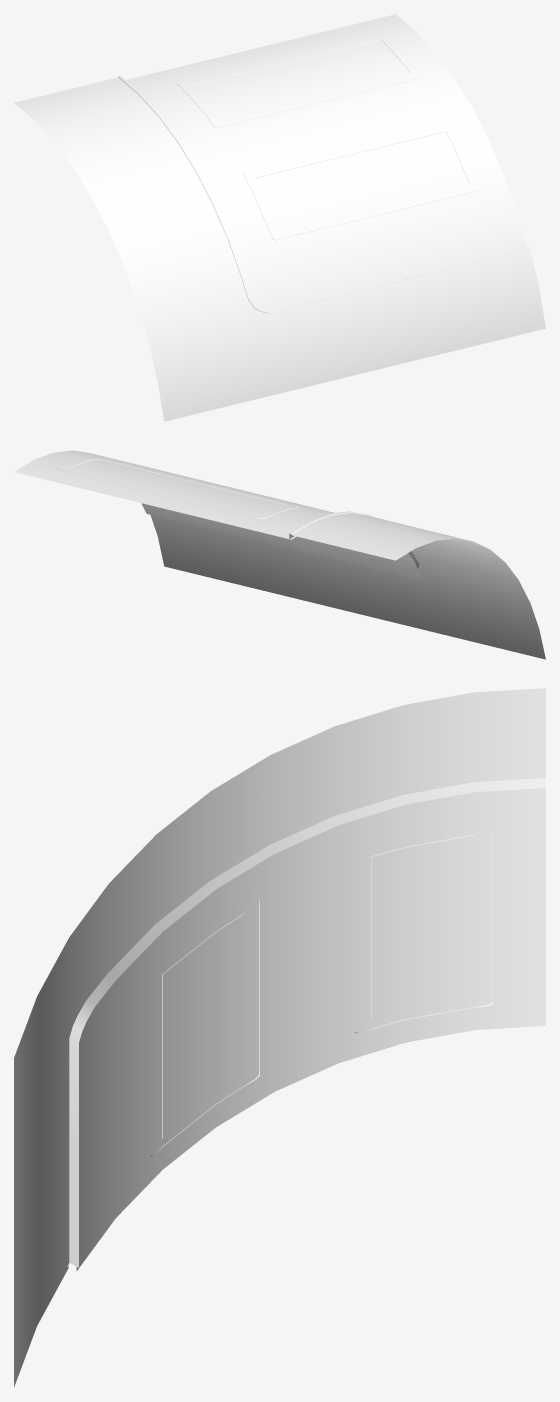
File: grd_Ex_w_sw_0.dae
3 views of the same model, one above another, from view 1: azimuth 30°, elevation 25°; view 2: azimuth 150°, elevation 25°; view 3: azimuth 270°, elevation 25° (orthographic). The views are drawn at different scales.
Visible parts, largest first — view 1: grass_0_0, road3_2_0, renga3_1_0; view 2: grass_0_0, road3_2_0, renga3_1_0; view 3: grass_0_0, road3_2_0, renga3_1_0.
Boxes of the visible parts, x1=… form: grass_0_0: x1=14, y1=39, x2=545, y2=421; road3_2_0: x1=125, y1=14, x2=527, y2=309; renga3_1_0: x1=118, y1=33, x2=530, y2=313; grass_0_0: x1=70, y1=459, x2=545, y2=659; road3_2_0: x1=14, y1=450, x2=423, y2=581; renga3_1_0: x1=56, y1=456, x2=420, y2=569; grass_0_0: x1=14, y1=688, x2=545, y2=1386; road3_2_0: x1=76, y1=788, x2=545, y2=1270; renga3_1_0: x1=67, y1=776, x2=545, y2=1267.
Size of the model in its own units: 704 by 370 by 480.
Materials: 3 (1 with a texture image).
